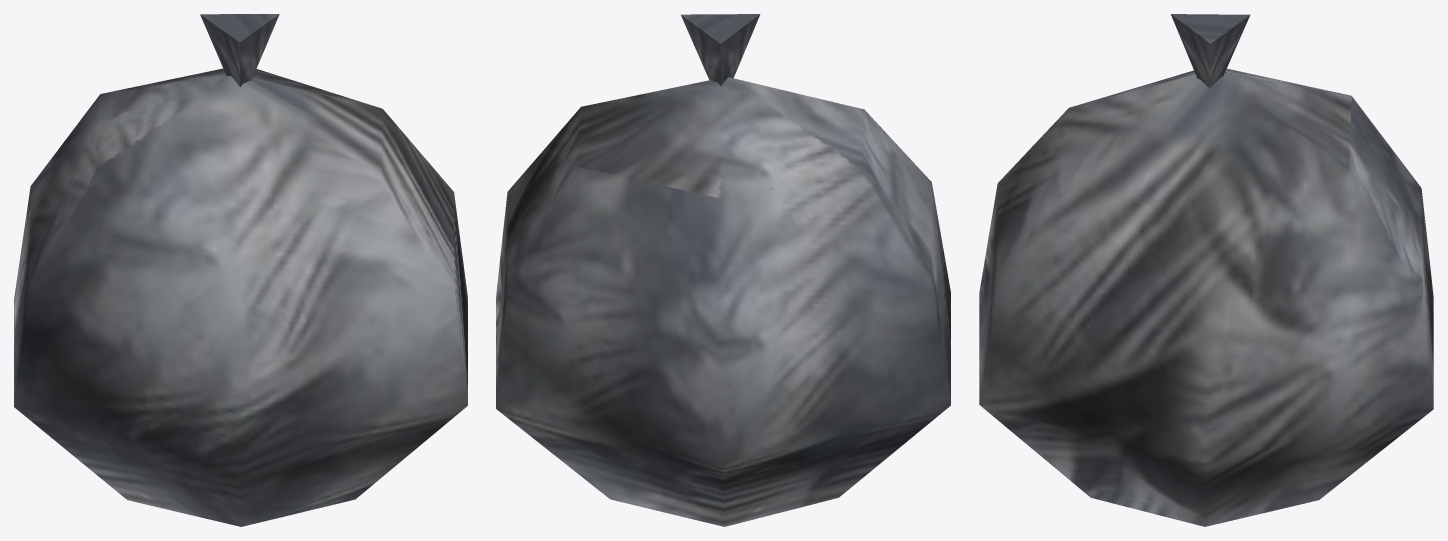
The model's file is Garbage.fbx.
3 views of the same model, side by side, from view 1: azimuth 30°, elevation 25°; view 2: azimuth 150°, elevation 25°; view 3: azimuth 270°, elevation 25° (orthographic).
Visible parts, largest first — view 1: Garbage_bag_02; view 2: Garbage_bag_02; view 3: Garbage_bag_02.
Boxes of the visible parts, left/top/right/bottom form: Garbage_bag_02: left=14, top=14, right=467, bottom=526; Garbage_bag_02: left=496, top=14, right=950, bottom=526; Garbage_bag_02: left=979, top=14, right=1433, bottom=526.
Bounding box in the file's own units: 0.5527 × 0.522 × 0.4787.
Materials: 1 (1 with a texture image).
